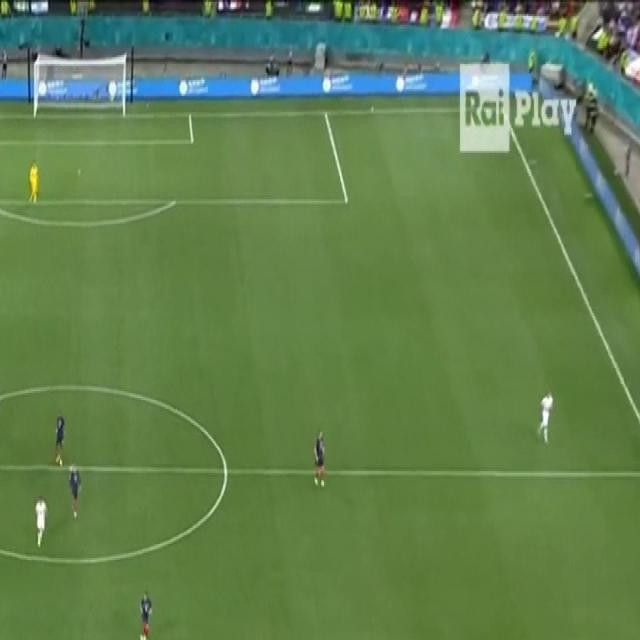player-white: (536, 389, 555, 444), (312, 428, 327, 488), (67, 465, 83, 519), (34, 492, 48, 550), (138, 586, 153, 640), (54, 408, 66, 468), (28, 156, 40, 208)
